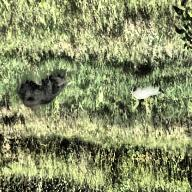boar: (2, 71, 71, 109)
